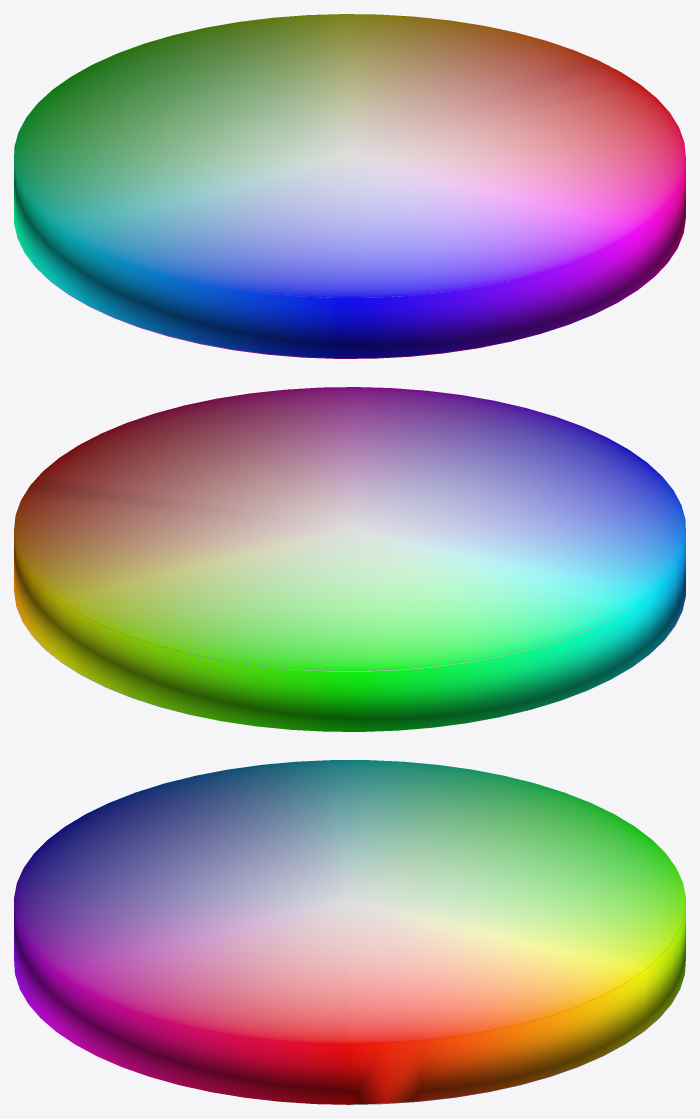
The model's file is color.obj.
The picture shows the model from 3 angles, top to bottom: view 1: azimuth 30°, elevation 25°; view 2: azimuth 150°, elevation 25°; view 3: azimuth 270°, elevation 25°; orthographic projection.
Visible parts, largest first — view 1: color_wheel_cylinder; view 2: color_wheel_cylinder; view 3: color_wheel_cylinder.
Part boxes in pixels (x1,y1,x2,y2): color_wheel_cylinder: (14,14,685,358); color_wheel_cylinder: (14,387,685,731); color_wheel_cylinder: (14,760,685,1104).
Size of the model in its own units: 2 by 0.2 by 2.
Materials: 1 (1 with a texture image).
